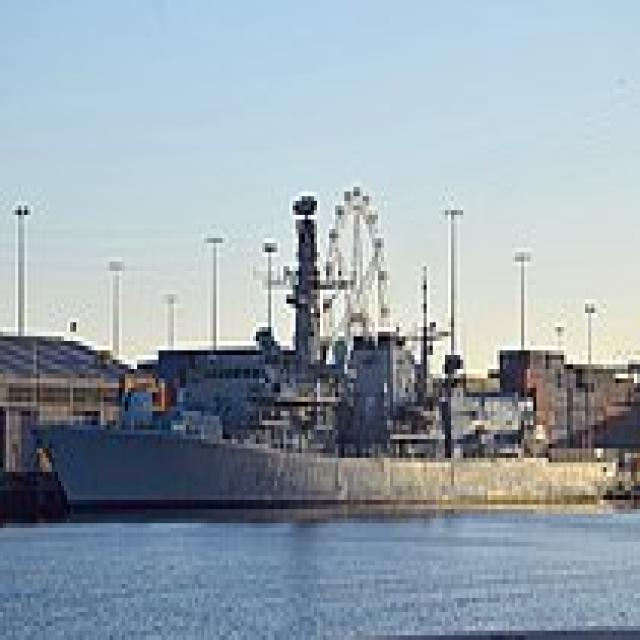Warship: (21, 187, 619, 523)
